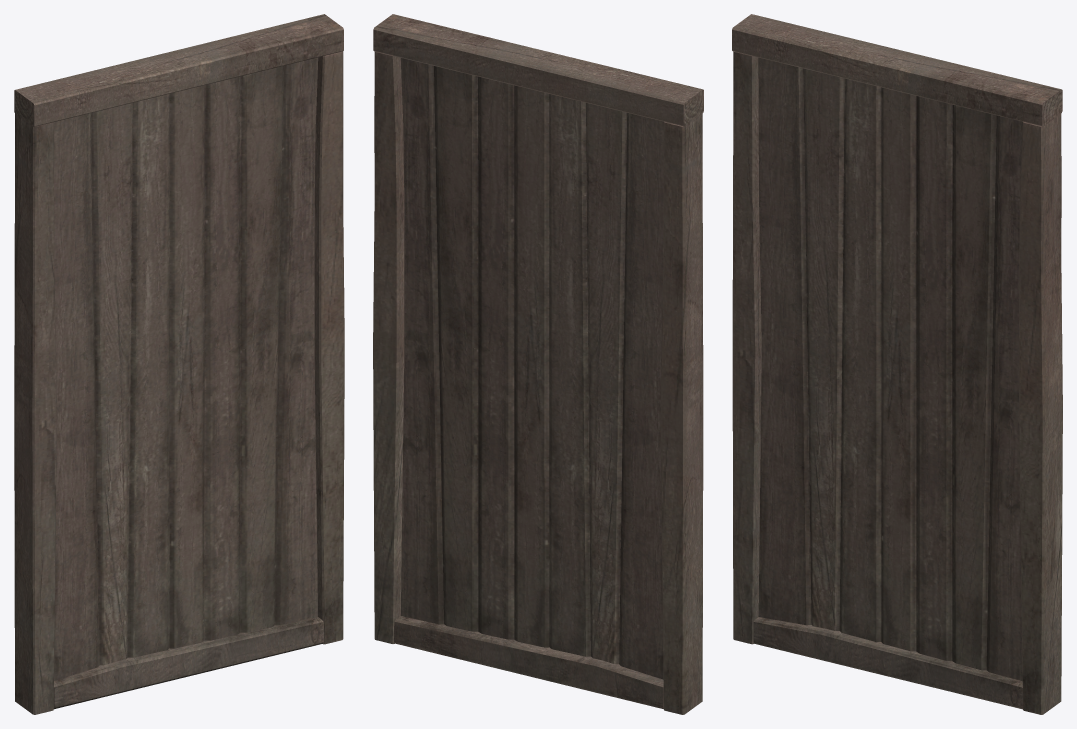
File: WoodWall.fbx
3 renders of one model, left to right at view 1: azimuth 30°, elevation 25°; view 2: azimuth 150°, elevation 25°; view 3: azimuth 330°, elevation 25°, orthographic.
Visible parts, largest first — view 1: WoodWall1.mo; view 2: WoodWall1.mo; view 3: WoodWall1.mo.
Boxes of the visible parts, x1,y1,x2,y2 form: WoodWall1.mo: [14, 14, 344, 714]; WoodWall1.mo: [373, 14, 703, 714]; WoodWall1.mo: [732, 14, 1062, 714].
Size of the model in its own units: 227 by 425 by 25.88.
1 material, 1 textured.
